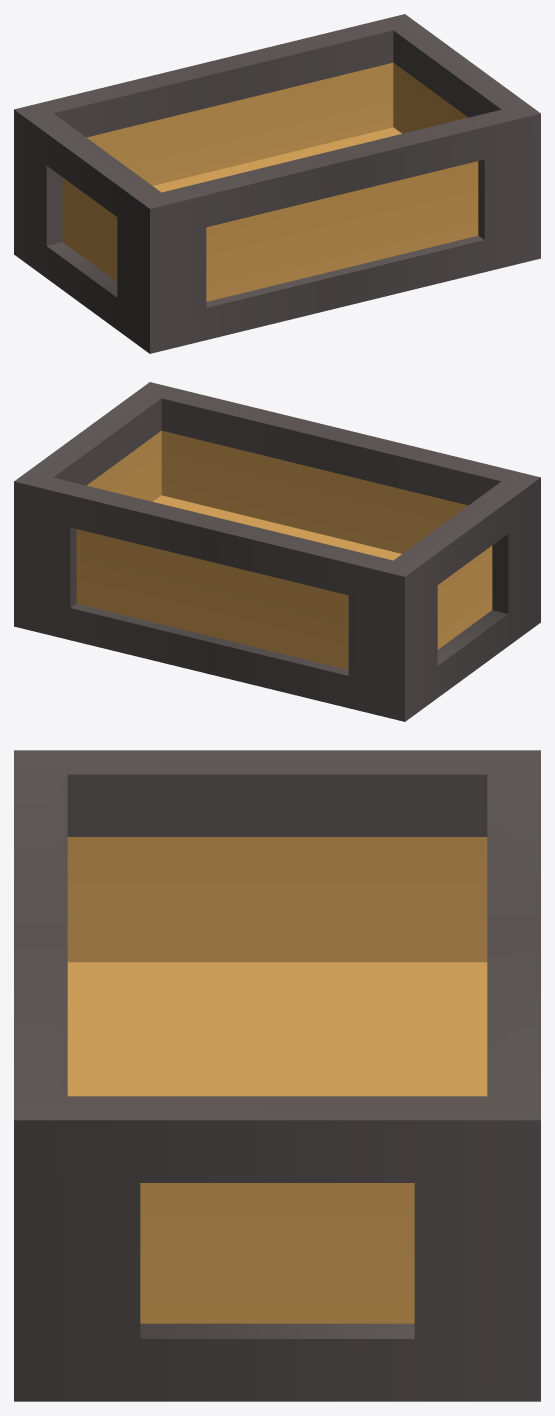
Rendered from Safe Chest 2 bottom.fbx.
3 renders of one model, top to bottom at view 1: azimuth 30°, elevation 25°; view 2: azimuth 150°, elevation 25°; view 3: azimuth 270°, elevation 25°, orthographic. The views are drawn at different scales.
Visible parts, largest first — view 1: Safe Chest 2 bottom; view 2: Safe Chest 2 bottom; view 3: Safe Chest 2 bottom.
Part boxes in pixels (x1,y1,x2,y2): Safe Chest 2 bottom: (14,14,540,353); Safe Chest 2 bottom: (14,382,540,721); Safe Chest 2 bottom: (14,750,540,1401).
Size of the model in its own units: 97.13 by 34.43 by 58.47.
